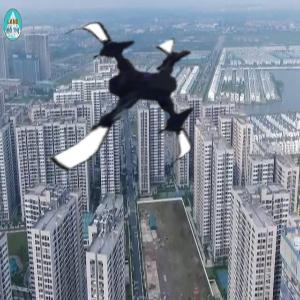drone: (29, 11, 212, 194)
